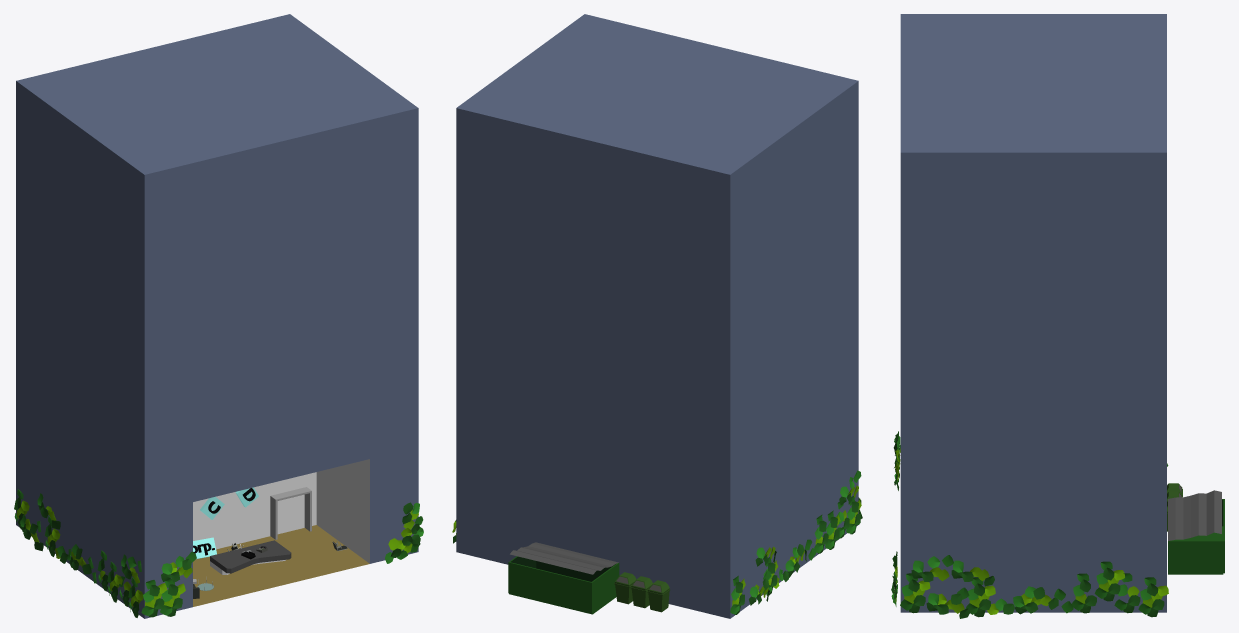
File: Recepción 1.fbx
The picture shows the model from 3 angles, left to right: view 1: azimuth 30°, elevation 25°; view 2: azimuth 150°, elevation 25°; view 3: azimuth 270°, elevation 25°; orthographic projection. The views are drawn at different scales.
Parts seen in each view (by area): view 1: Cube.001, Cube, Cube.003, Plane.008, Plane.006, Plane.012, Plane.007, Plane.014; view 2: Cube.001, Cube.013, Cube.012; view 3: Cube.001, Cube.013, Plane.013, Plane.025, Plane.024, Plane.029, Plane.026, Plane.021, Plane.019, Plane.030, Plane.027, Plane.028.
Part boxes in pixels (left/top/right/bottom): Cube.001: left=16, top=14, right=418, bottom=618; Cube: left=210, top=540, right=291, bottom=574; Cube.003: left=270, top=487, right=311, bottom=539; Plane.008: left=161, top=551, right=196, bottom=582; Plane.006: left=141, top=580, right=167, bottom=617; Plane.012: left=385, top=534, right=420, bottom=563; Plane.007: left=160, top=578, right=185, bottom=616; Plane.014: left=401, top=502, right=423, bottom=537; Cube.001: left=456, top=14, right=858, bottom=618; Cube.013: left=508, top=542, right=619, bottom=614; Cube.012: left=647, top=580, right=670, bottom=612; Cube.001: left=900, top=14, right=1166, bottom=612; Cube.013: left=1168, top=490, right=1224, bottom=574; Plane.013: left=951, top=560, right=1073, bottom=614; Plane.025: left=1013, top=586, right=1065, bottom=614; Plane.024: left=926, top=587, right=970, bottom=618; Plane.029: left=1138, top=577, right=1168, bottom=617; Plane.026: left=1094, top=561, right=1124, bottom=601; Plane.021: left=900, top=573, right=930, bottom=613; Plane.019: left=965, top=577, right=995, bottom=617; Plane.030: left=911, top=555, right=953, bottom=581; Plane.027: left=1072, top=573, right=1096, bottom=613; Plane.028: left=1114, top=573, right=1140, bottom=613.
Size of what is drawn, in the model's own units: 2012 by 3005 by 1893.
